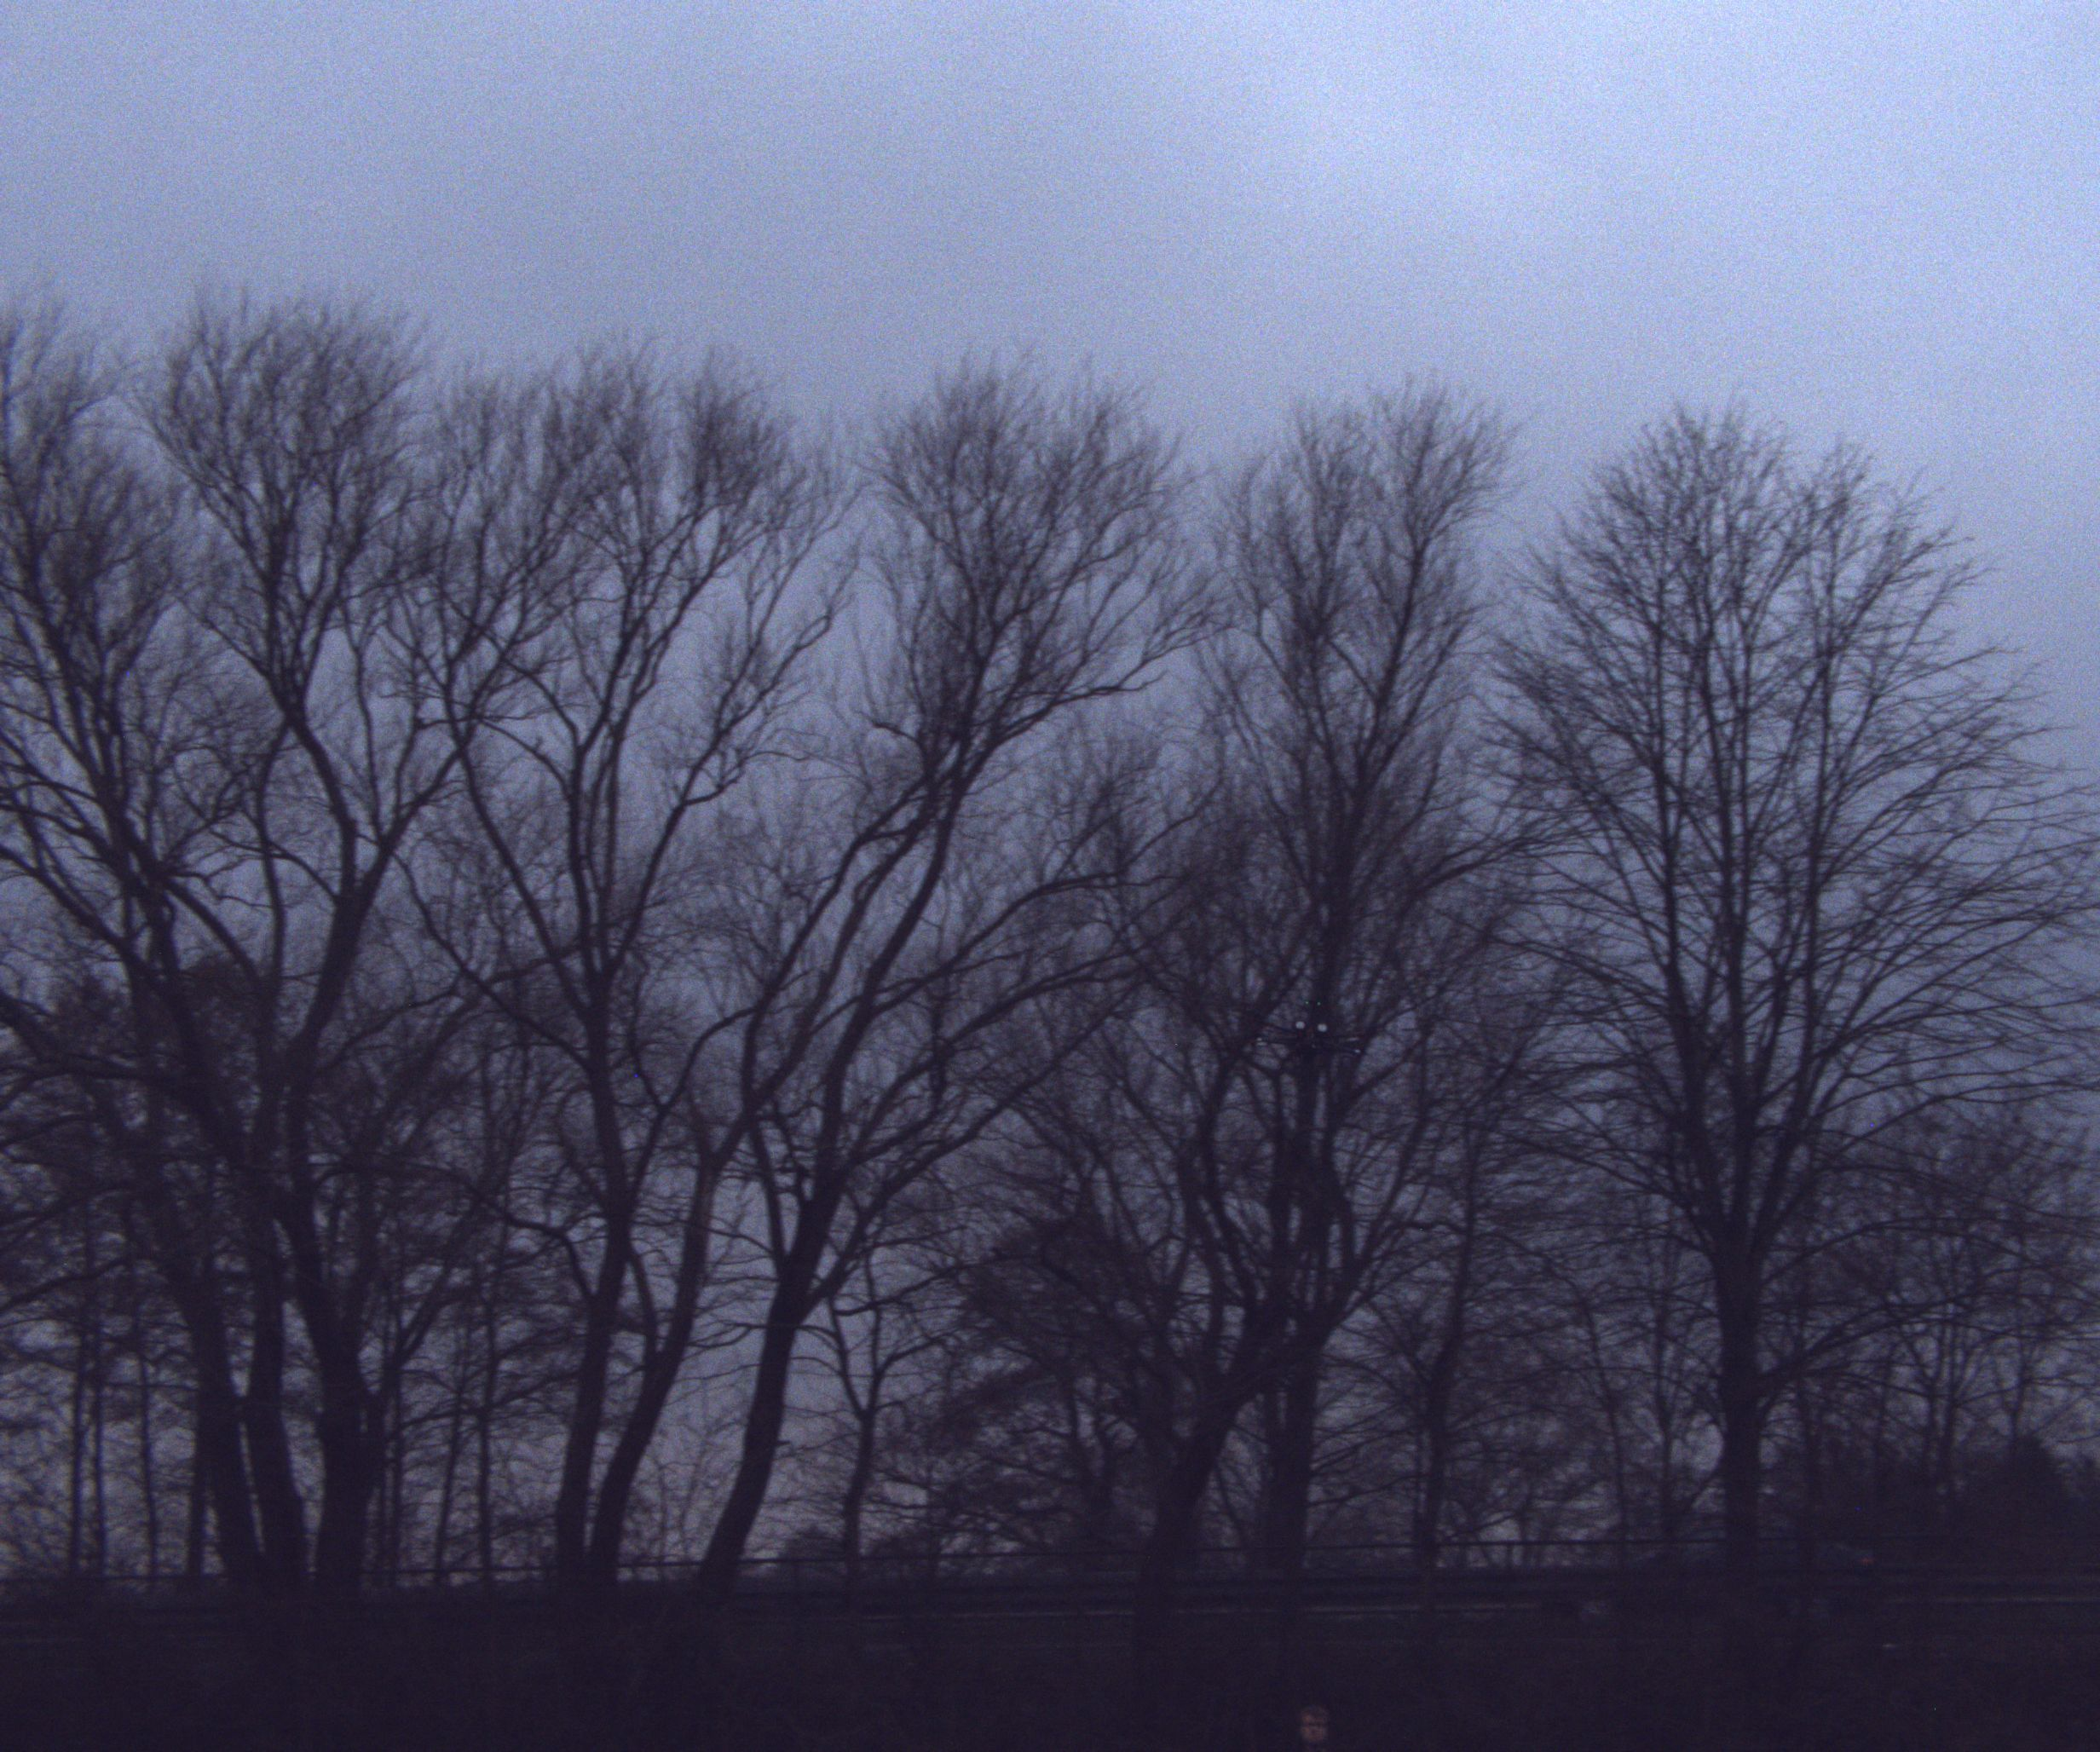Drohne: (1176, 962, 1420, 1095)
